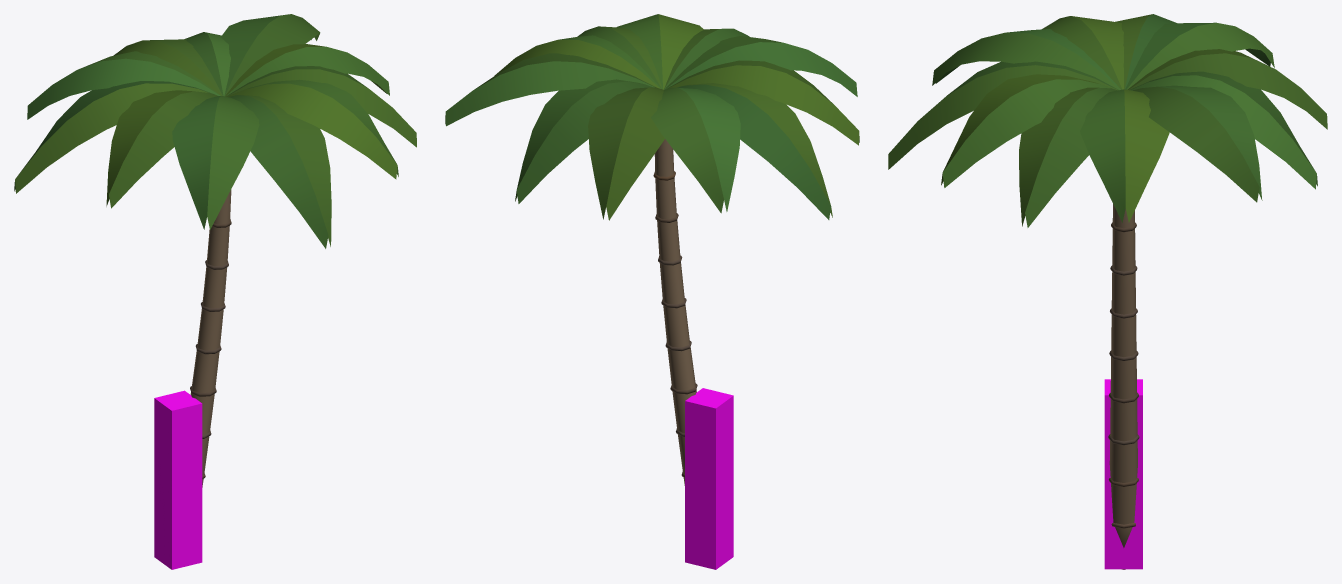
The model's file is PRP_Palm_Coconut_A.glb.
3 views of the same model, side by side, from view 1: azimuth 30°, elevation 25°; view 2: azimuth 150°, elevation 25°; view 3: azimuth 270°, elevation 25° (orthographic). The views are drawn at different scales.
Parts seen in each view (by area): view 1: PRP_Palm_Coconut_A_Mesh, COL_Trunk; view 2: PRP_Palm_Coconut_A_Mesh, COL_Trunk; view 3: PRP_Palm_Coconut_A_Mesh, COL_Trunk.
Part boxes in pixels (x1,y1,x2,y2): PRP_Palm_Coconut_A_Mesh: [14, 14, 416, 487]; COL_Trunk: [154, 390, 202, 569]; PRP_Palm_Coconut_A_Mesh: [445, 14, 859, 485]; COL_Trunk: [685, 388, 733, 569]; PRP_Palm_Coconut_A_Mesh: [888, 14, 1327, 569]; COL_Trunk: [1104, 379, 1142, 569].
Size of the model in its own units: 6.97 by 9.17 by 6.87.
